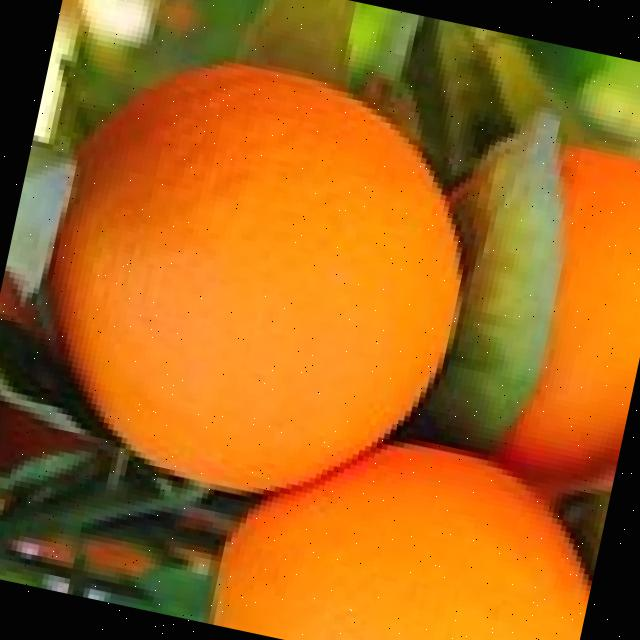Ripe: (2, 21, 497, 532)
